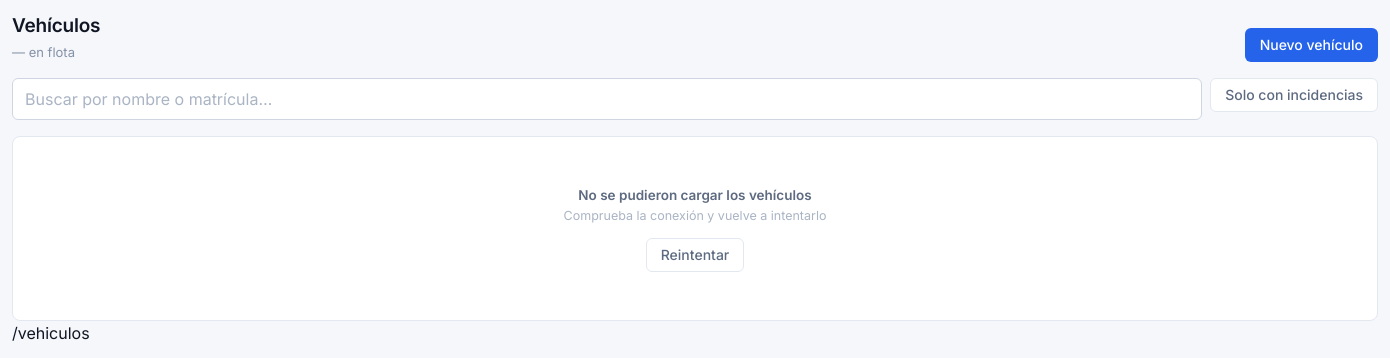
VehicleList · la carga falla › enseña el error y no «Sin vehículos»; Reintentar vuelve a pedir
The width and height of the screenshot is (1390, 358).
Expected: the message shows "No se pudieron cargar los vehículos", [578, 187, 812, 203]
Expected: the text "— en flota" is shown, [12, 44, 75, 60]
Click the button "Reintentar" at {"x": 695, "y": 255}, box [646, 238, 744, 272]
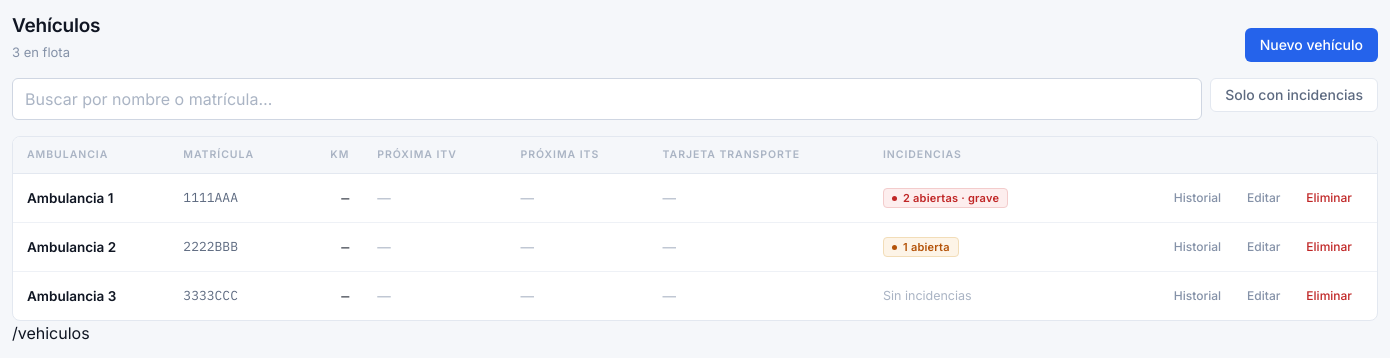
Now the table is shown, box [13, 137, 1377, 320]
Now the text "3 en flota" is shown, box [12, 44, 70, 60]
